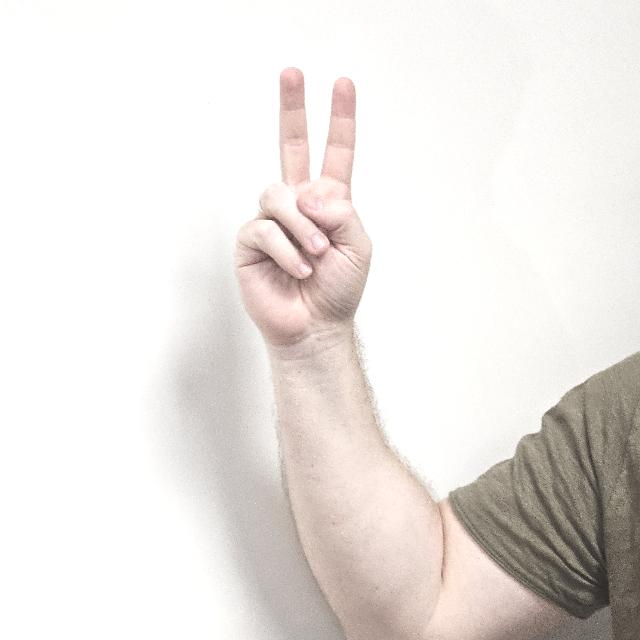Triangulo: (217, 59, 395, 437)
